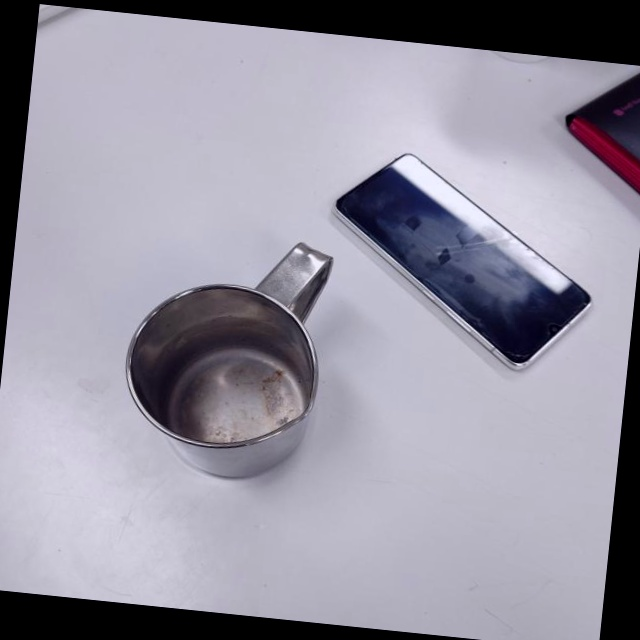cup: (115, 224, 335, 487)
phone: (317, 142, 607, 381)
